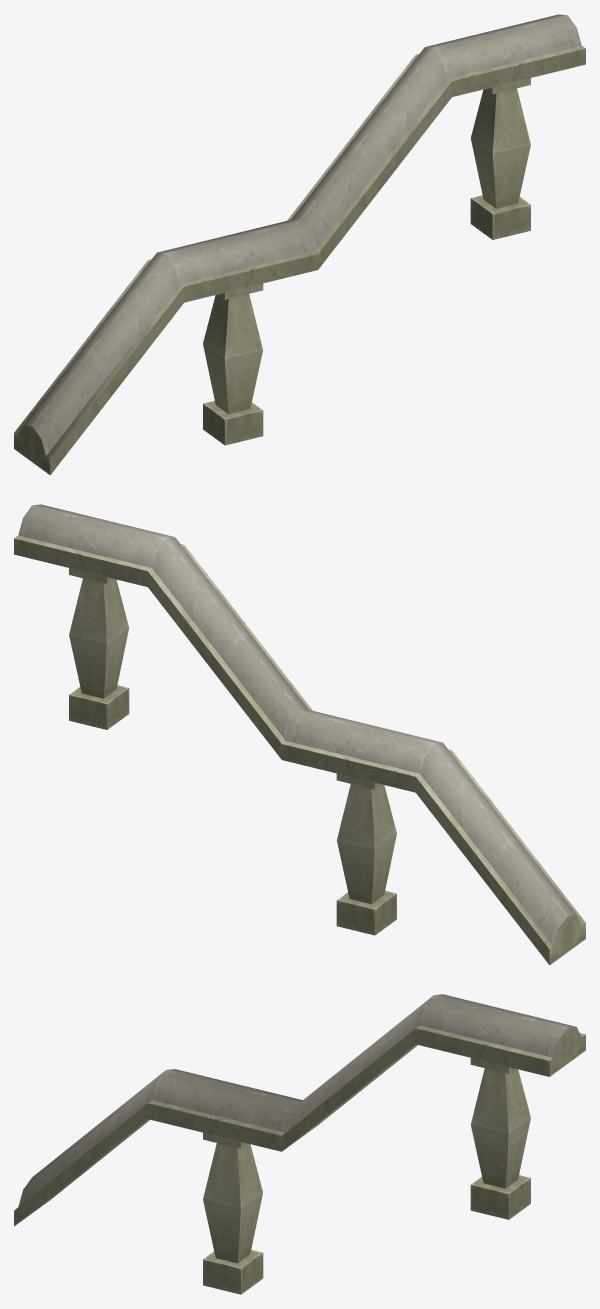
File: stairhandrail_2.FBX
3 views of the same model, one above another, from view 1: azimuth 30°, elevation 25°; view 2: azimuth 150°, elevation 25°; view 3: azimuth 330°, elevation 25° (orthographic).
Parts seen in each view (by area): view 1: stairhand_02; view 2: stairhand_02; view 3: stairhand_02.
Part boxes in pixels (bbox=[...]): stairhand_02: bbox=[14, 14, 585, 475]; stairhand_02: bbox=[14, 504, 585, 965]; stairhand_02: bbox=[14, 994, 585, 1294].
Size of the model in its own units: 200 by 120 by 23.52.
